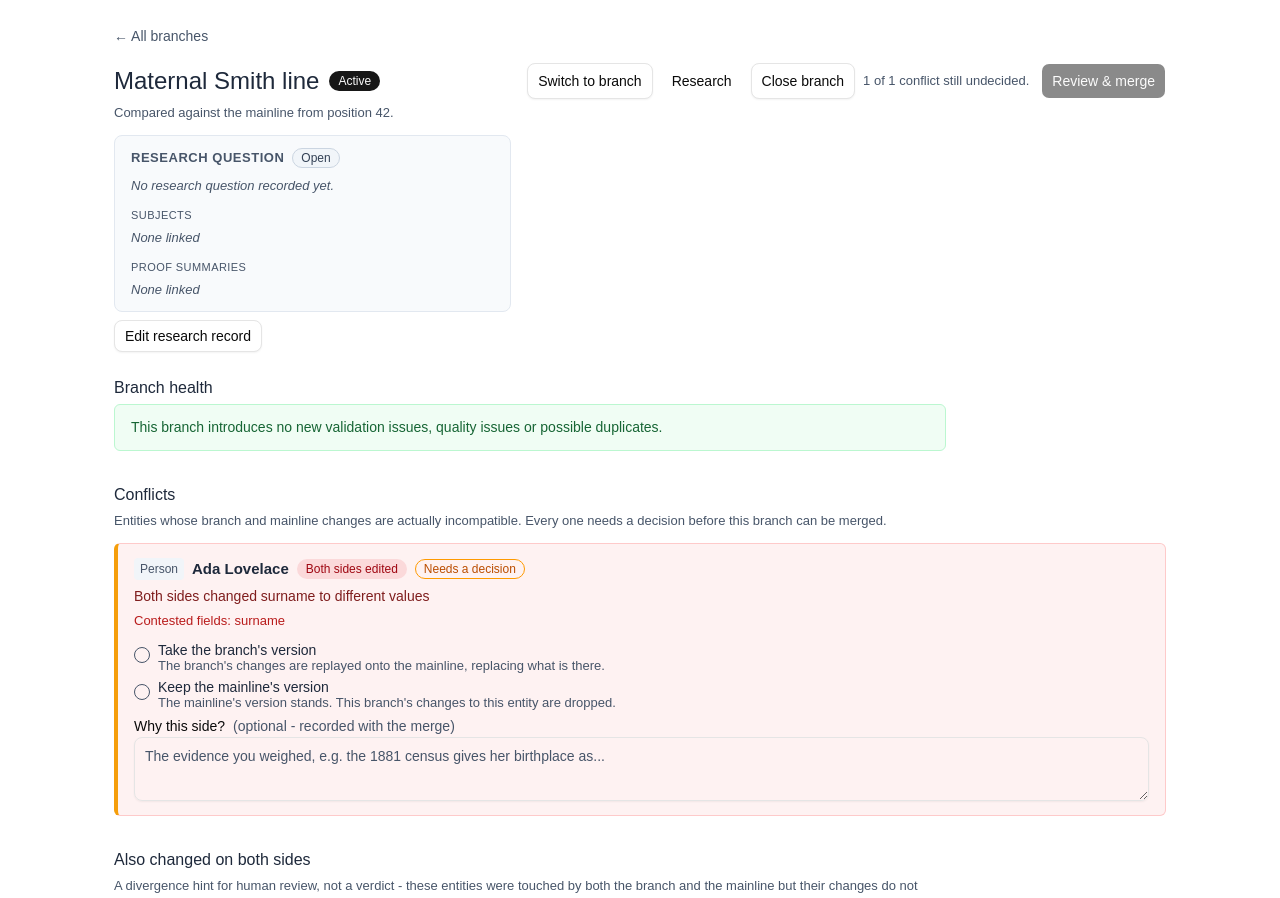
Scenario: Branch comparison page › merge review › gates "Review & merge" on every conflict carrying a decision
Check: the heading "Maternal Smith line" is shown, box [114,63,319,99]
Check: the button "Review & merge" is disabled, box [1041,63,1166,99]
What coordinates should you click on to do the following:
click the radio button next to "Take the branch's version"
I would click on:
 (142, 654)
Its box is [134,646,150,662].
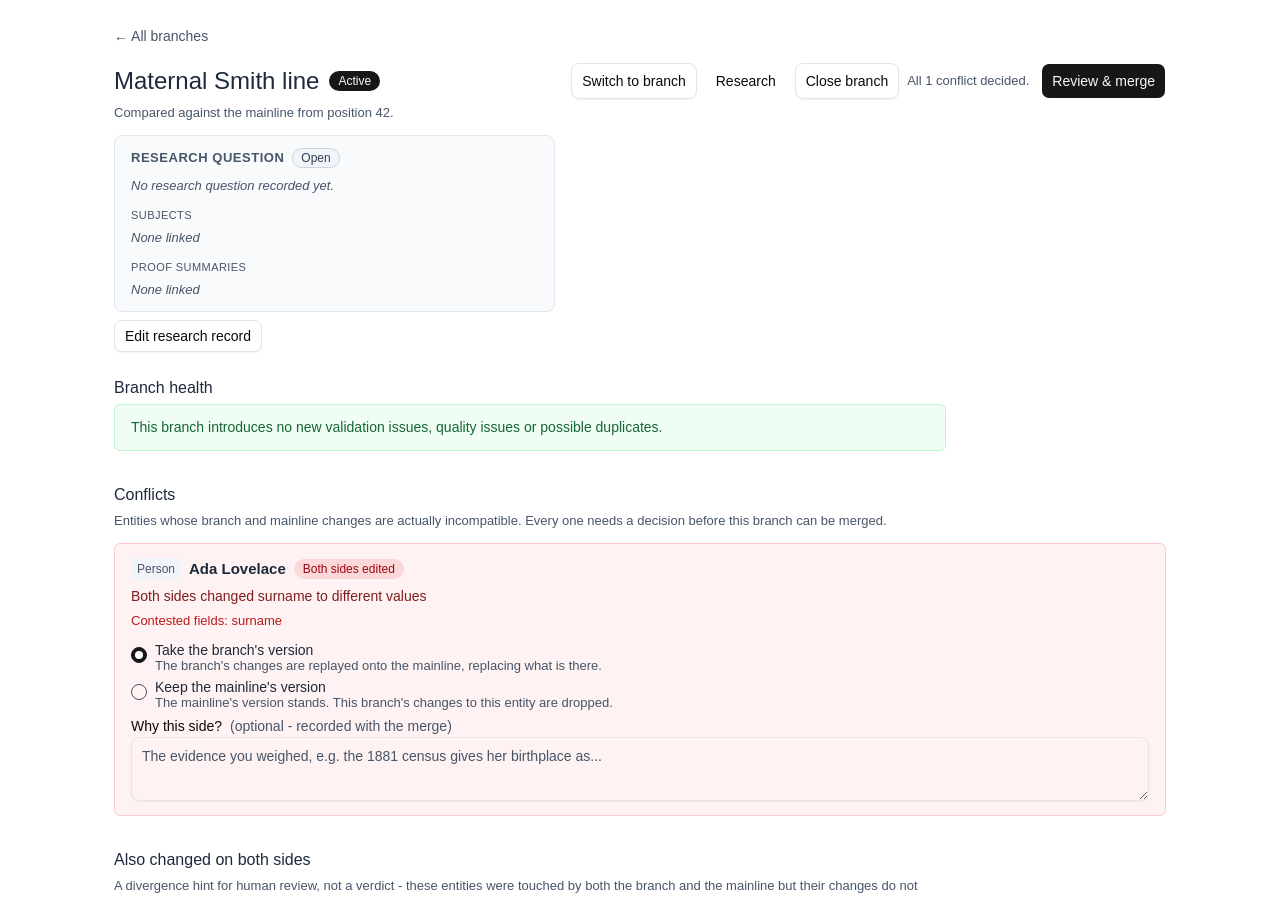
Check: the button "Review & merge" is enabled, box [1041,63,1166,99]
Check: the text "All 1 conflict decided." is shown, box [907,71,1029,91]
